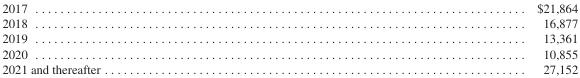table: (1, 0, 577, 75)
table column: (1, 0, 317, 75), (317, 0, 577, 75)
table row: (1, 0, 577, 15), (1, 15, 577, 30), (1, 30, 577, 45), (1, 45, 577, 60), (1, 60, 577, 75)
